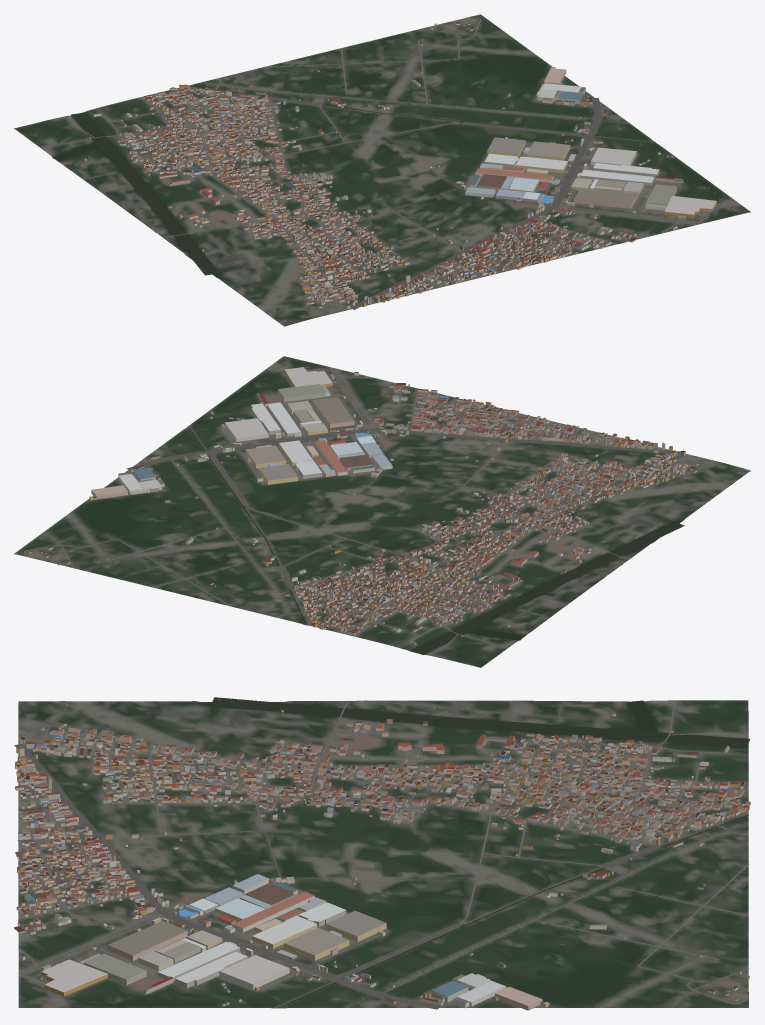
The picture shows the model from 3 angles, top to bottom: view 1: azimuth 30°, elevation 25°; view 2: azimuth 150°, elevation 25°; view 3: azimuth 270°, elevation 25°; orthographic projection. The views are drawn at different scales.
Visible parts, largest first — view 1: ground, buildings, roads, water; view 2: ground, buildings, roads, water; view 3: ground, buildings, roads, water.
Part boxes in pixels (<box>): ground: <box>14,14,750,326</box>; buildings: <box>83,18,716,311</box>; roads: <box>41,17,709,315</box>; water: <box>52,85,654,275</box>; ground: <box>14,356,750,667</box>; buildings: <box>28,367,725,645</box>; roads: <box>24,367,715,655</box>; water: <box>187,426,684,654</box>; ground: <box>18,700,748,1008</box>; buildings: <box>14,704,750,1010</box>; roads: <box>14,700,748,1009</box>; water: <box>210,697,749,1007</box>.
Bounding box in the file's own units: 1430 × 30.93 × 1415.
